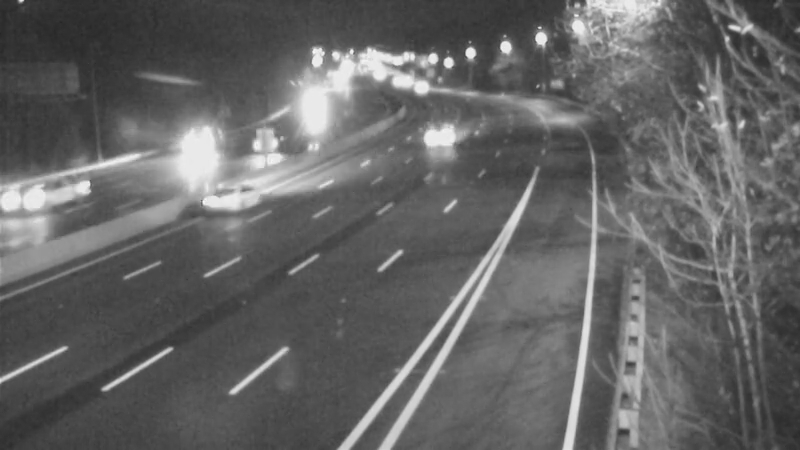vehicle: (193, 157, 273, 237), (1, 158, 77, 238), (418, 108, 468, 158), (168, 120, 218, 170), (249, 117, 299, 167), (284, 85, 334, 135)
